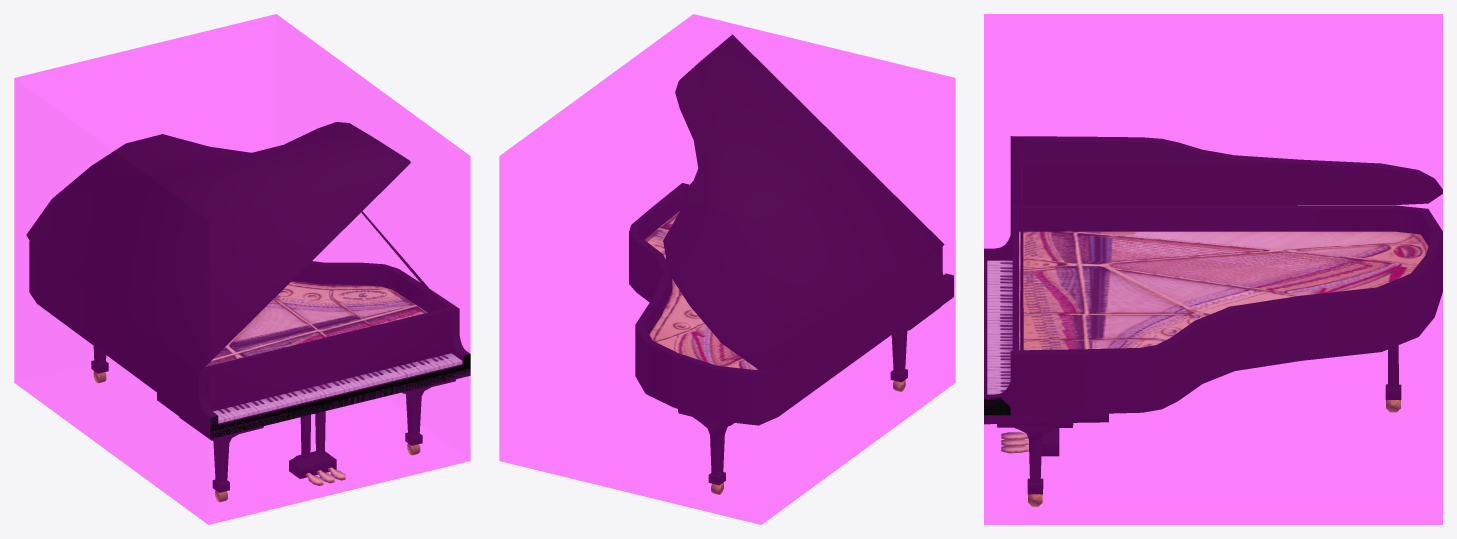
File: grandpiano.fbx
3 renders of one model, left to right at view 1: azimuth 30°, elevation 25°; view 2: azimuth 150°, elevation 25°; view 3: azimuth 270°, elevation 25°, orthographic. The views are drawn at different scales.
Visible parts, largest first — view 1: piano_boundingBox, piano; view 2: piano_boundingBox, piano; view 3: piano_boundingBox, piano.
Boxes of the visible parts, x1,y1,x2,y2 form: piano_boundingBox: (14, 14, 470, 524); piano: (26, 122, 470, 502); piano_boundingBox: (499, 14, 955, 524); piano: (629, 34, 953, 494); piano_boundingBox: (984, 14, 1442, 524); piano: (984, 136, 1442, 506).
Size of the model in its own units: 1.99 by 2.21 by 2.56.
2 materials, 1 textured.
